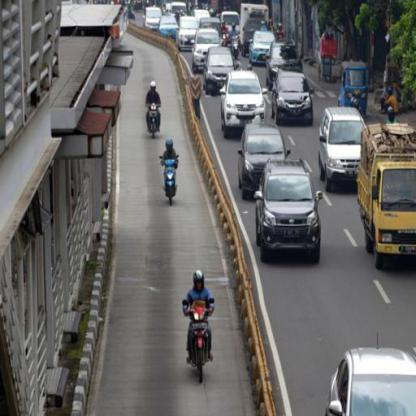car: (254, 158, 322, 265), (327, 335, 415, 415), (316, 104, 366, 188), (216, 67, 269, 127), (237, 122, 284, 184), (272, 70, 312, 126), (267, 38, 307, 76), (203, 44, 236, 87), (188, 29, 217, 62), (249, 29, 276, 58)
motorbike: (157, 152, 183, 206), (146, 99, 162, 136)
